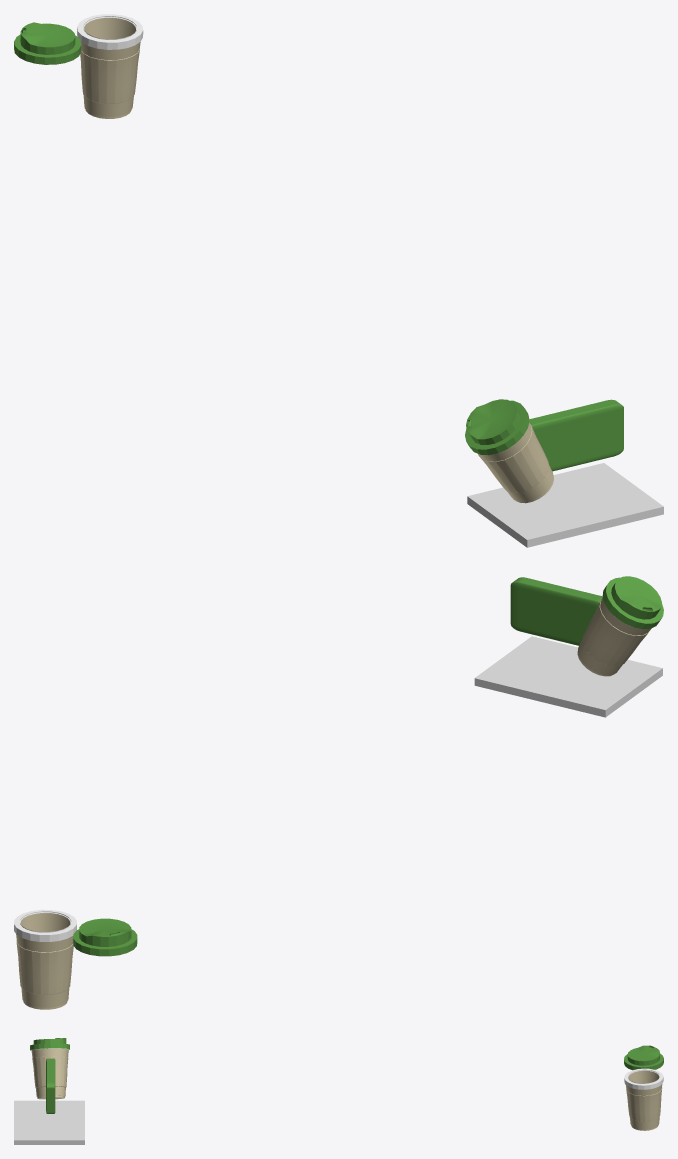
The picture shows the model from 3 angles, top to bottom: view 1: azimuth 30°, elevation 25°; view 2: azimuth 150°, elevation 25°; view 3: azimuth 270°, elevation 25°; orthographic projection. The views are drawn at different scales.
Visible parts, largest first — view 1: Cube.026, spotLight4.002, spotLight4.003, Cube.025, spotLight4.004; view 2: Cube.026, spotLight4.002, spotLight4.003, Cube.025, spotLight4.004; view 3: Cube.026, spotLight4.003, spotLight4.002, spotLight4.004, Cube.025.
Part boxes in pixels (x1=…): Cube.026: x1=467, y1=463, x2=663, y2=547; spotLight4.002: x1=465, y1=399, x2=553, y2=503; spotLight4.003: x1=77, y1=14, x2=143, y2=118; Cube.025: x1=529, y1=399, x2=623, y2=471; spotLight4.004: x1=14, y1=22, x2=81, y2=64; Cube.026: x1=474, y1=636, x2=662, y2=717; spotLight4.002: x1=577, y1=576, x2=663, y2=676; spotLight4.003: x1=14, y1=909, x2=76, y2=1009; Cube.025: x1=510, y1=577, x2=602, y2=645; spotLight4.004: x1=73, y1=918, x2=137, y2=956; Cube.026: x1=14, y1=1100, x2=84, y2=1144; spotLight4.003: x1=624, y1=1068, x2=663, y2=1130; spotLight4.002: x1=30, y1=1038, x2=69, y2=1099; spotLight4.004: x1=624, y1=1045, x2=663, y2=1070; Cube.025: x1=46, y1=1058, x2=55, y2=1113.
Size of the model in its own units: 77.71 by 52.49 by 436.
